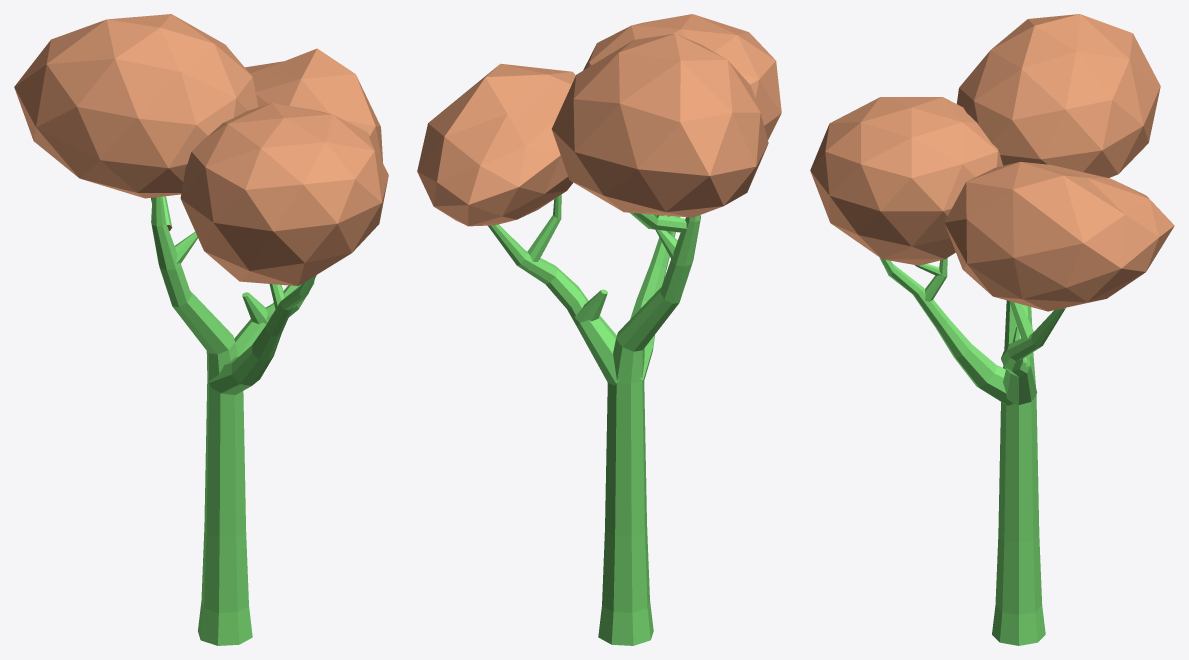
Rendered from Remake9.fbx.
The picture shows the model from 3 angles, left to right: view 1: azimuth 30°, elevation 25°; view 2: azimuth 150°, elevation 25°; view 3: azimuth 270°, elevation 25°; orthographic projection. The views are drawn at different scales.
Parts seen in each view (by area): view 1: Icosphere.010; view 2: Icosphere.010; view 3: Icosphere.010.
Boxes of the visible parts, x1=… form: Icosphere.010: x1=14, y1=14, x2=388, y2=645; Icosphere.010: x1=417, y1=14, x2=781, y2=645; Icosphere.010: x1=810, y1=14, x2=1174, y2=645.
Bounding box in the file's own units: 7793 × 14147 × 8025.
